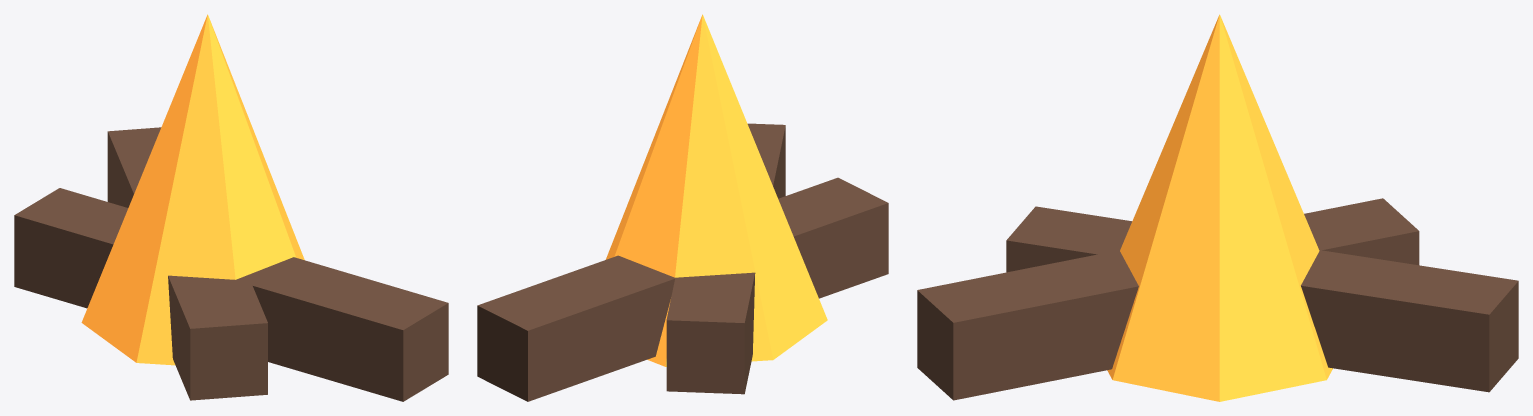
File: tavern_hearth_fire.glb
3 renders of one model, left to right at view 1: azimuth 30°, elevation 25°; view 2: azimuth 150°, elevation 25°; view 3: azimuth 270°, elevation 25°, orthographic. The views are drawn at different scales.
Visible parts, largest first — view 1: tavern_hearth_fire_Mesh; view 2: tavern_hearth_fire_Mesh; view 3: tavern_hearth_fire_Mesh.
Part boxes in pixels (<box>): tavern_hearth_fire_Mesh: <box>14,14,448,401</box>; tavern_hearth_fire_Mesh: <box>477,14,888,401</box>; tavern_hearth_fire_Mesh: <box>917,14,1518,401</box>.
Bounding box in the file's own units: 0.6884 × 0.85 × 1.4.
